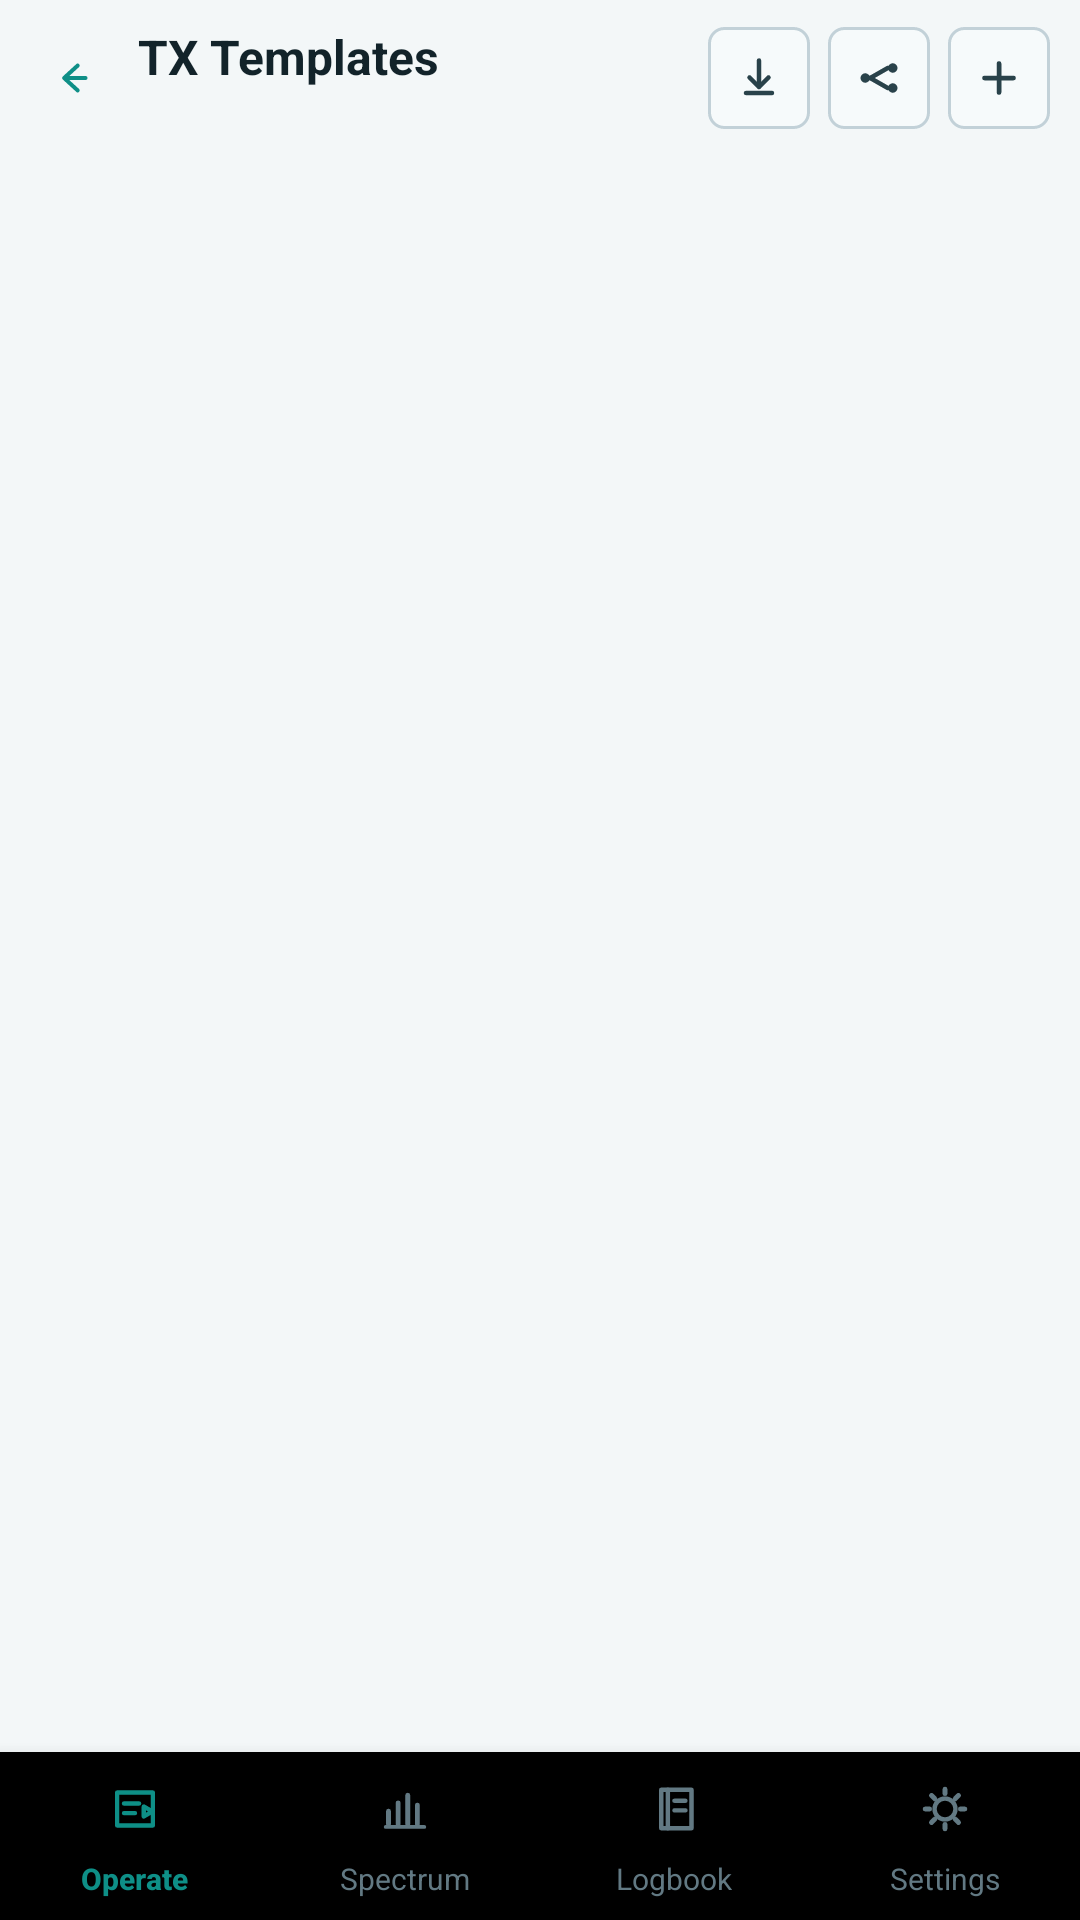

Point at icon controls on the screen. Image size 1080 x 1920, points as point (x, y).
Back: point (75, 78)
Create new template: point (999, 78)
Export template package: point (879, 78)
Import template package: point (759, 78)
